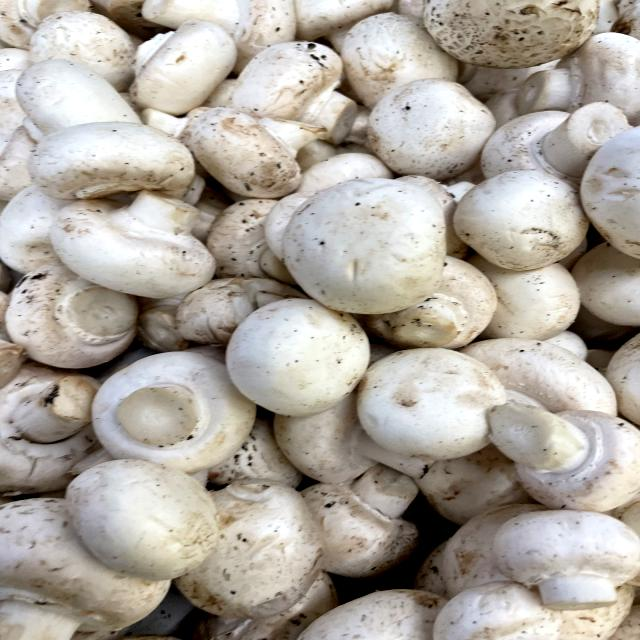mushroom: (80, 341, 275, 474), (52, 176, 228, 302), (180, 95, 369, 207), (476, 499, 640, 622), (489, 391, 640, 519), (220, 28, 376, 148)
